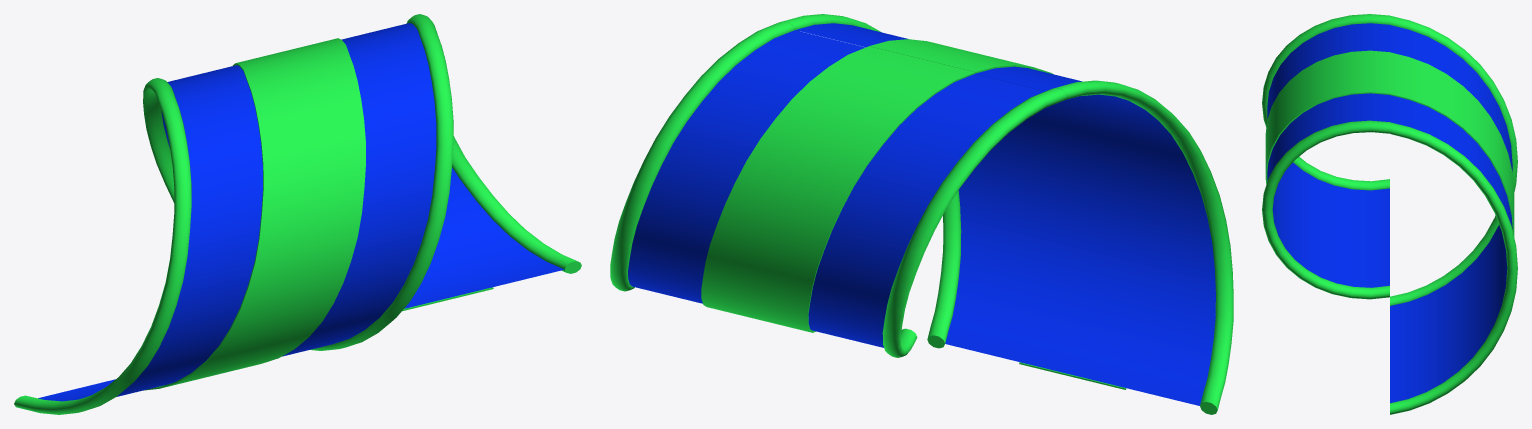
The model's file is Ramp Q.FBX.
3 views of the same model, side by side, from view 1: azimuth 30°, elevation 25°; view 2: azimuth 150°, elevation 25°; view 3: azimuth 270°, elevation 25° (orthographic). The views are drawn at different scales.
Visible parts, largest first — view 1: Plane003, Plane004; view 2: Plane004, Plane003; view 3: Plane004, Plane003.
Boxes of the visible parts, bbox=[...] form: Plane003: bbox=[14, 30, 453, 414]; Plane004: bbox=[143, 14, 581, 311]; Plane004: bbox=[610, 21, 1067, 357]; Plane003: bbox=[783, 14, 1233, 414]; Plane004: bbox=[1390, 15, 1517, 414]; Plane003: bbox=[1262, 14, 1389, 299].
Bounding box in the file's own units: 3.87 × 1.81 × 1.81.
